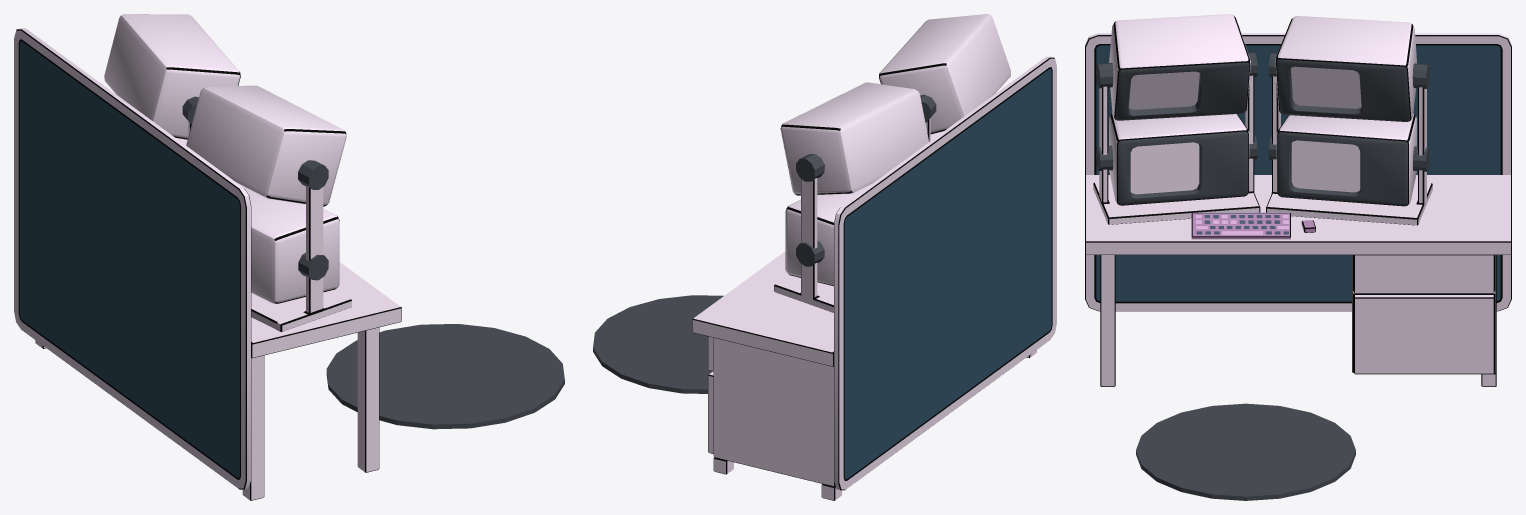
File: DeskQuad.fbx
3 views of the same model, side by side, from view 1: azimuth 30°, elevation 25°; view 2: azimuth 150°, elevation 25°; view 3: azimuth 270°, elevation 25° (orthographic). The views are drawn at different scales.
Visible parts, largest first — view 1: Desk Quad; view 2: Desk Quad; view 3: Desk Quad.
Part boxes in pixels (x1,y1,x2,y2): Desk Quad: (14, 14, 564, 500); Desk Quad: (593, 14, 1056, 500); Desk Quad: (1085, 14, 1511, 500).
Bounding box in the file's own units: 5.44 × 4.77 × 5.6.
